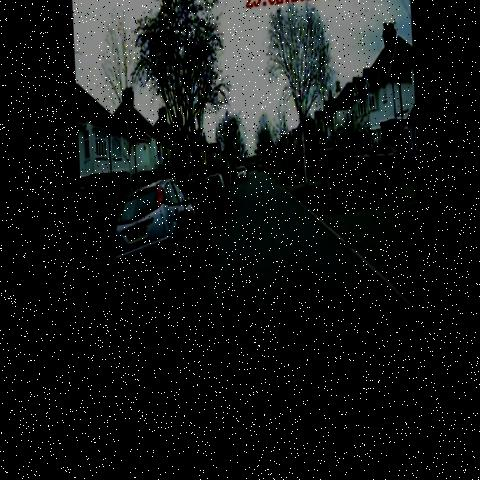pothole: (235, 216, 265, 252), (228, 248, 255, 286), (231, 294, 257, 320), (251, 193, 267, 214)
